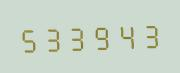five: (17, 22, 40, 54)
four: (114, 19, 137, 51)
nine: (90, 20, 113, 52)
three: (66, 20, 89, 53), (41, 21, 64, 53), (138, 18, 161, 50)
